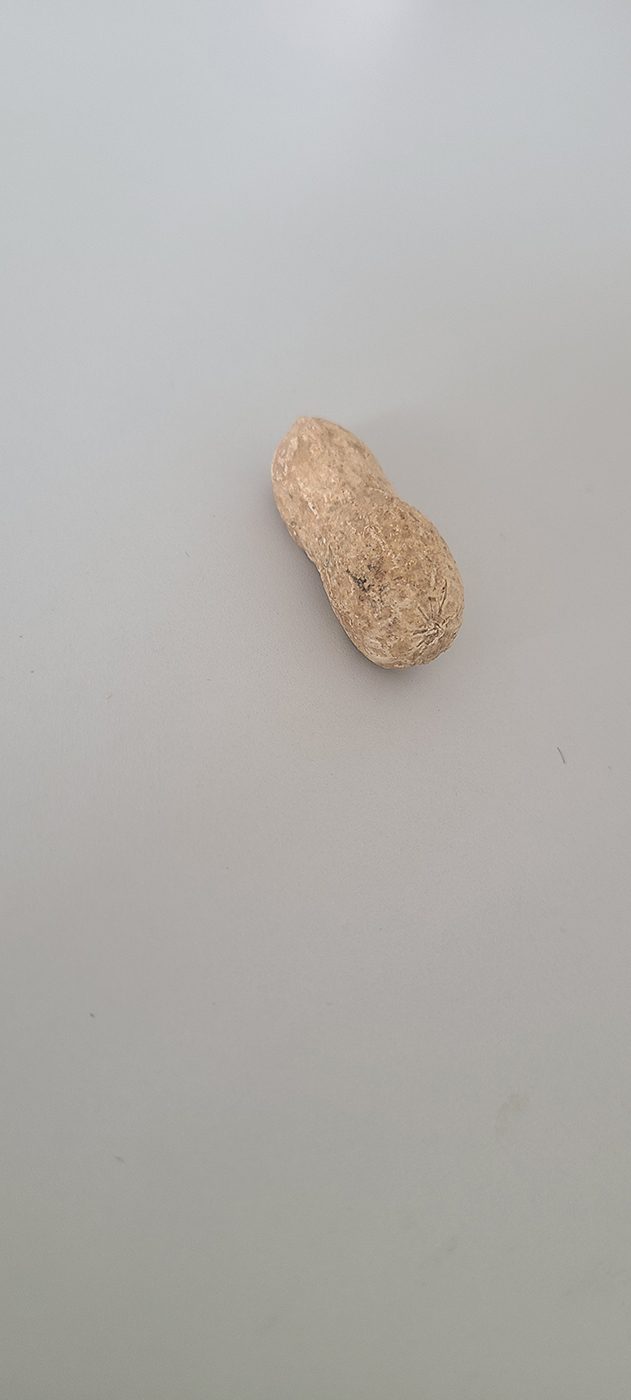h: (268, 414, 468, 673)
